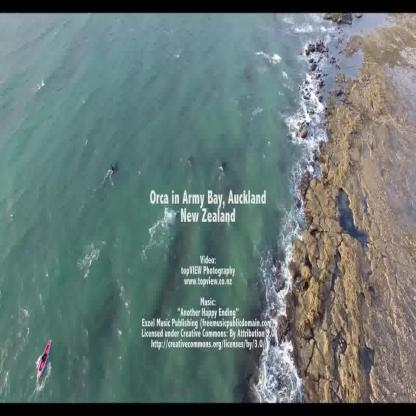Boat: (32, 339, 58, 384)
